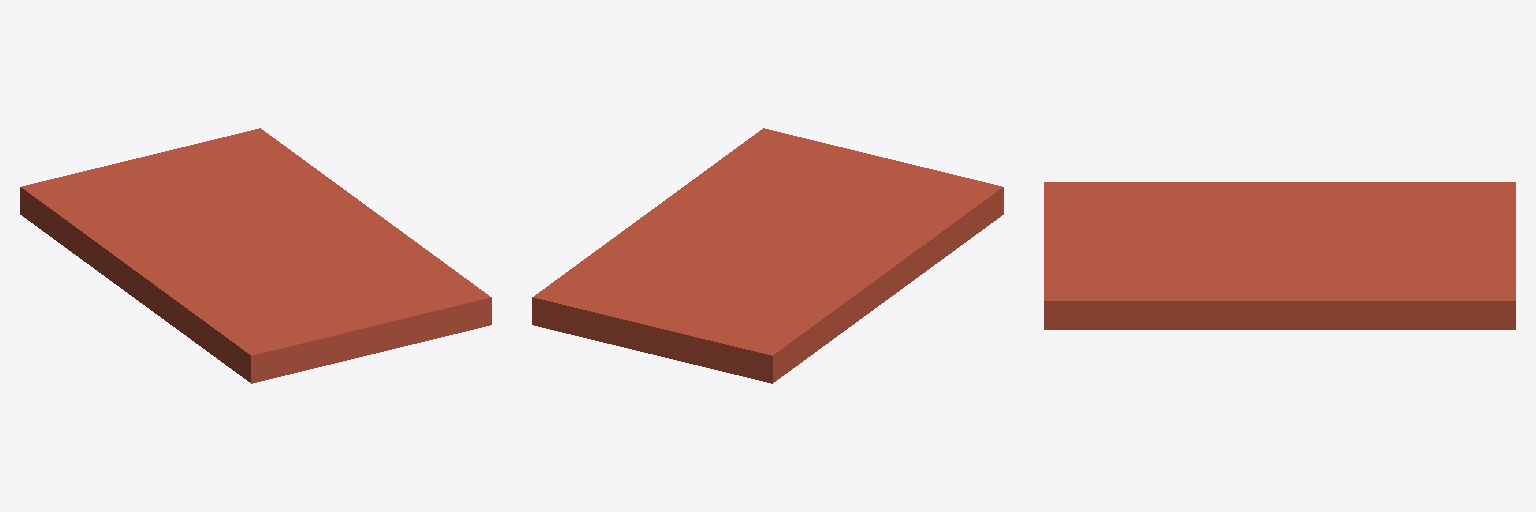
robot.urdf — powerbot:
<?xml version="1.0" ?>
<!-- =================================================================================== -->
<!-- |    This document was autogenerated by xacro from ./powerbot.xacro               | -->
<!-- |    EDITING THIS FILE BY HAND IS NOT RECOMMENDED                                 | -->
<!-- =================================================================================== -->
<robot name="powerbot" xmlns:controller="http://playerstage.sourceforge.net/gazebo/xmlschema/#controller" xmlns:interface="http://playerstage.sourceforge.net/gazebo/xmlschema/#interface" xmlns:sensor="http://playerstage.sourceforge.net/gazebo/xmlschema/#sensor" xmlns:xacro="http://ros.org/wiki/xacro">
  <!--<xacro:include filename="$(find p2os_urdf)/defs/materials.xacro"/>-->
  <!-- 0.148 -->
  <!-- Brown arm plate -->
  <link name="arm_plate">
    <inertial>
      <mass value="0.01"/>
      <origin rpy="0 0 0" xyz="0.2 0 0.03"/>
      <inertia ixx="1" ixy="0" ixz="0" iyy="1" iyz="0" izz="1"/>
    </inertial>
    <visual>
      <geometry>
        <box size="0.45 0.75 0.05"/>
      </geometry>
      <origin rpy="0 0 0" xyz="0.2 0 0.03"/>
      <material name="brown">
        <color rgba="0.8 0.4 0.3 1"/>
      </material>
    </visual>
    <collision>
      <origin rpy="0 0 0" xyz="0.2 0 0.03"/>
      <geometry>
        <box size="0.45 0.75 0.05"/>
      </geometry>
    </collision>
  </link>
  <joint name="arm_plate_joint" type="fixed">
    <parent link="top_plate"/>
    <child link="arm_plate"/>
    <origin xyz="0 0 0"/>
  </joint>
  <!-- Chassis -->
  <link name="base_center">
    <inertial>
      <mass value="120.0"/>
      <origin xyz="-0.045 0 0.067"/>
      <inertia ixx="0.4255" ixy="0.0" ixz="0.0" iyy="0.4955" iyz="0.0" izz="0.7441"/>
    </inertial>
    <visual name="base_visual">
      <origin rpy="0 0 0" xyz="-0.045 0 0.067"/>
      <geometry name="pioneer_geom">
        <mesh filename="package://champ_description/meshes/p3dx_meshes/chassis.stl"/>
      </geometry>
      <material name="ChassisYellow">
        <color rgba="0.715 0.583 0.210 1.0"/>
      </material>
    </visual>
    <collision>
      <origin rpy="0 0 0" xyz="-0.045 0 0.067"/>
      <geometry>
        <mesh filename="package://champ_description/meshes/p3dx_meshes/chassis.stl"/>
      </geometry>
    </collision>
  </link>
  <gazebo reference="base_center">
    <material value="Gazebo/Yellow"/>
  </gazebo>
  <!-- Top -->
  <joint name="base_top_joint" type="fixed">
    <!--origin xyz="-0.045 0 0.325" rpy="0 0 0"/-->
    <origin rpy="0 0 0" xyz="-0.045 0 0.277"/>
    <parent link="base_center"/>
    <child link="top_plate"/>
  </joint>
  <!-- Top plate -->
  <link name="top_plate">
    <inertial>
      <mass value="0.1"/>
      <origin xyz="0 0 0"/>
      <inertia ixx="1" ixy="0" ixz="0" iyy="1" iyz="0" izz="1"/>
    </inertial>
    <visual>
      <origin rpy="0 0 0" xyz="0 0 0"/>
      <geometry name="top_geom">
        <mesh filename="package://champ_description/meshes/p3dx_meshes/top.stl"/>
      </geometry>
      <material name="TopBlack">
        <color rgba="0.038 0.038 0.038 1.0"/>
      </material>
    </visual>
    <collision>
      <origin rpy="0 0 0" xyz="0 0 0"/>
      <geometry>
        <mesh filename="package://champ_description/meshes/p3dx_meshes/top.stl"/>
      </geometry>
    </collision>
  </link>
  <gazebo reference="top_plate">
    <material value="Gazebo/Black"/>
  </gazebo>
</robot>

--- Render facts (derived) ---
3 views of the same robot in one strip: view 1: azimuth 30°, elevation 25°; view 2: azimuth 150°, elevation 25°; view 3: azimuth 270°, elevation 25° (orthographic).
Model powerbot with 3 links and 2 joints (2 fixed), rooted at base_center, posed all joints at 0.
Links seen in each view (by area): view 1: arm_plate; view 2: arm_plate; view 3: arm_plate.
Link boxes in pixels (bbox=[...]): arm_plate: bbox=[20, 128, 491, 383]; arm_plate: bbox=[532, 128, 1003, 383]; arm_plate: bbox=[1044, 182, 1515, 329].
Bounding box of the posed robot: 0.45 × 0.75 × 0.05 m (x, y, z).
0 mesh visuals loaded from 2 distinct referenced files (none loaded); not drawn: 2 (reference not matched to a file when rendering).